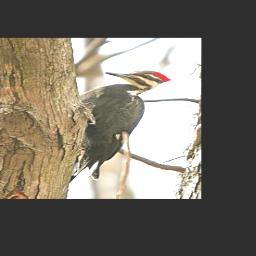Woodpecker: (68, 69, 173, 184)
